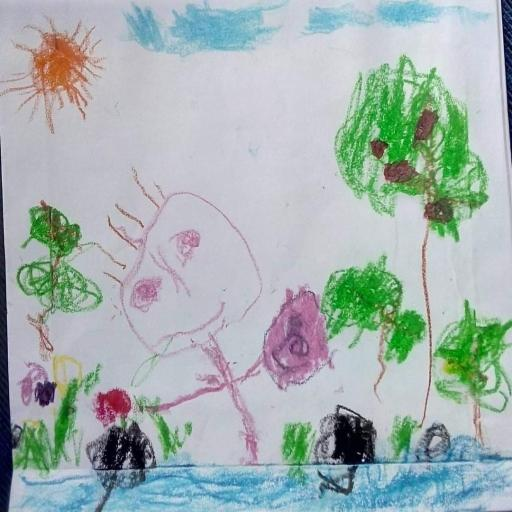person: (98, 164, 264, 478)
